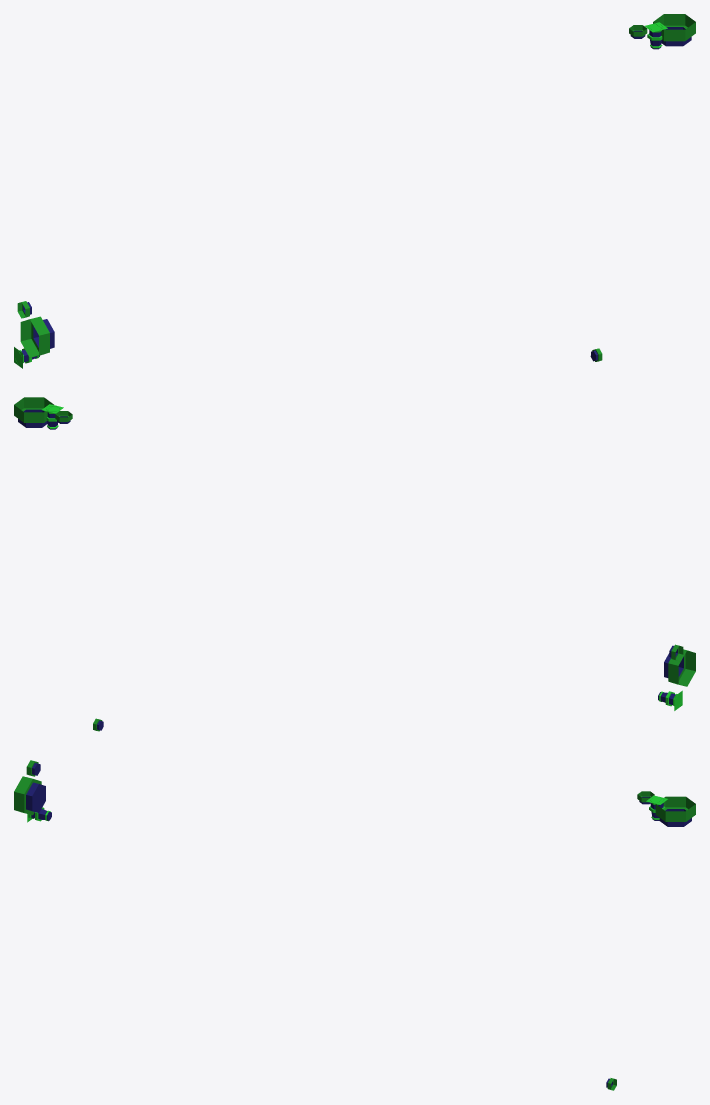
File: tomb_cable_caps.fbx
3 renders of one model, top to bottom at view 1: azimuth 30°, elevation 25°; view 2: azimuth 150°, elevation 25°; view 3: azimuth 330°, elevation 25°, orthographic. The views are drawn at different scales.
Parts seen in each view (by area): view 1: wire_connector_b_02.007, wire_connector_b_01.008; view 2: wire_connector_b_01.008, wire_connector_b_02.007; view 3: wire_connector_b_02.007, wire_connector_b_01.008.
Part boxes in pixels (box(x1,y1,x2,y2)): wire_connector_b_02.007: box(20, 316, 54, 357); wire_connector_b_01.008: box(653, 14, 695, 46); wire_connector_b_01.008: box(14, 397, 53, 427); wire_connector_b_02.007: box(664, 649, 695, 686); wire_connector_b_02.007: box(14, 776, 45, 815); wire_connector_b_01.008: box(655, 796, 695, 826).
Bounding box in the file's own units: 1161 × 526 × 131.
